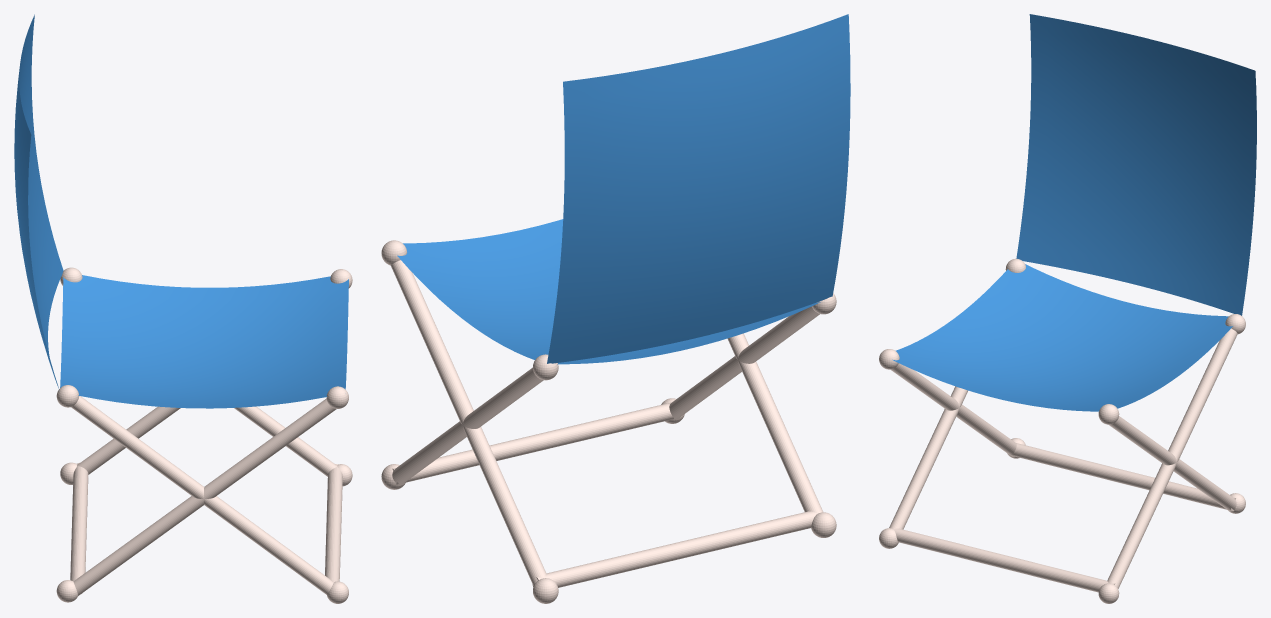
The model's file is chair 2.fbx.
3 views of the same model, side by side, from view 1: azimuth 30°, elevation 25°; view 2: azimuth 150°, elevation 25°; view 3: azimuth 270°, elevation 25° (orthographic). The views are drawn at different scales.
Visible parts, largest first — view 1: SurfPatch.001, Sphere.001; view 2: SurfPatch.001, Sphere.001; view 3: SurfPatch.001, Sphere.001.
Part boxes in pixels (box(x1,y1,x2,y2)): SurfPatch.001: box(14, 14, 348, 408); Sphere.001: box(56, 267, 352, 603); SurfPatch.001: box(397, 14, 850, 364); Sphere.001: box(381, 240, 836, 603); SurfPatch.001: box(892, 14, 1256, 411); Sphere.001: box(879, 258, 1245, 603).
Bounding box in the file's own units: 198 × 242 × 193.
